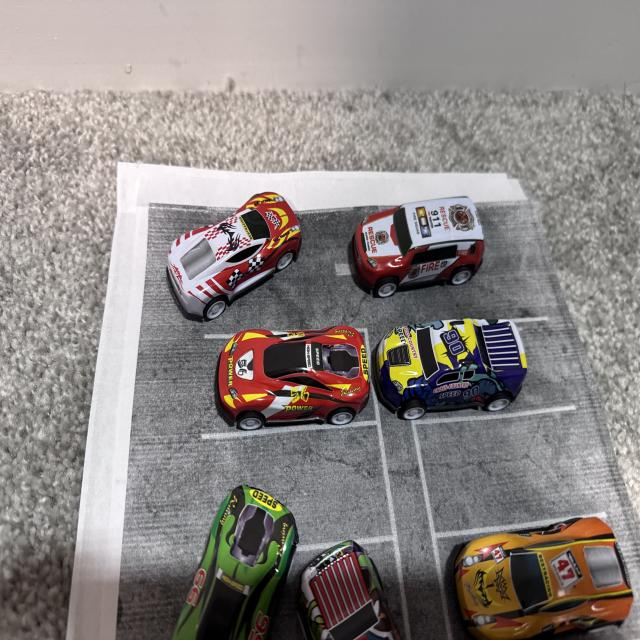Car: (364, 305, 598, 432), (447, 515, 636, 637), (192, 319, 367, 440), (166, 192, 300, 324), (301, 514, 426, 640), (352, 192, 482, 302), (178, 489, 268, 640)
